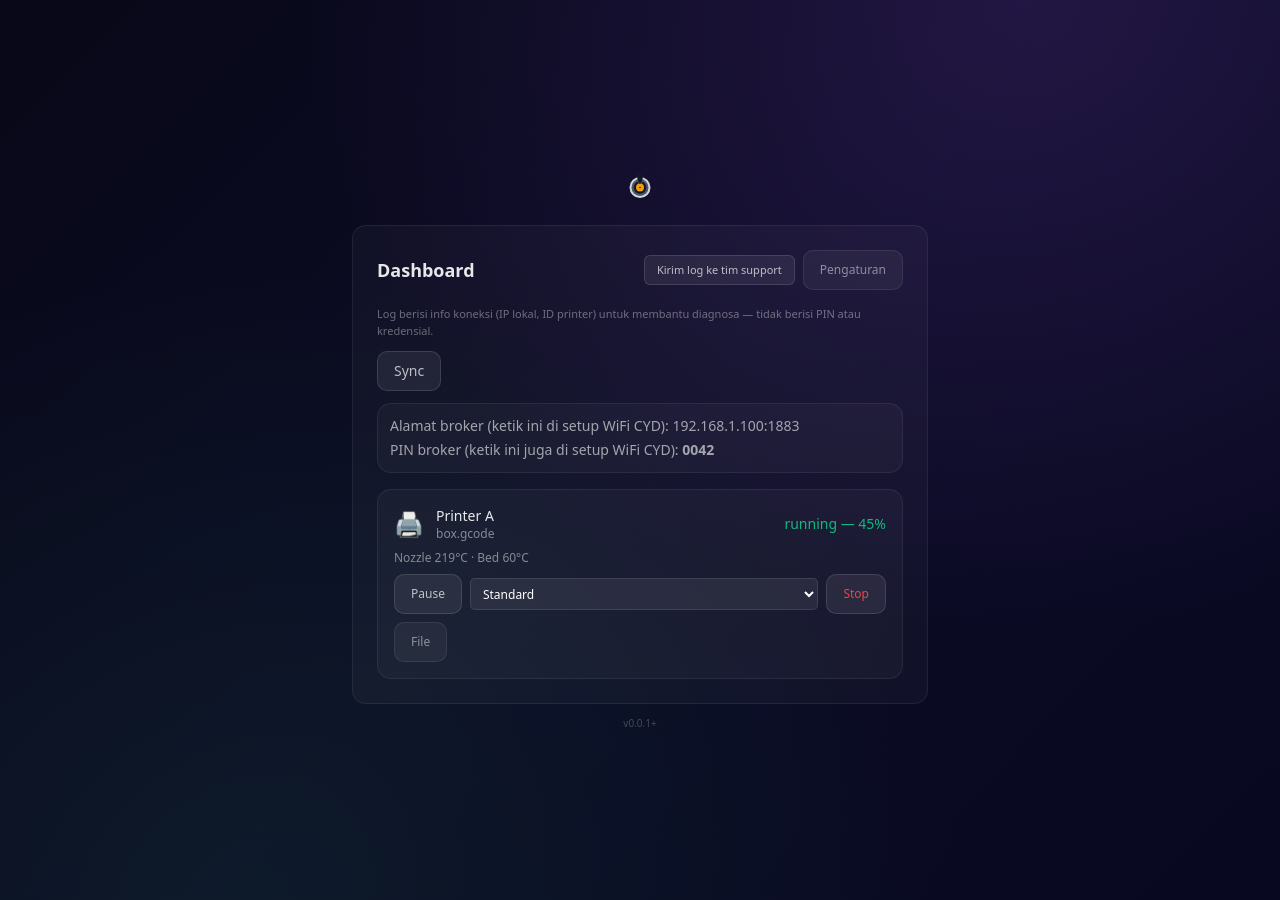
Test: DashboardScreen kirim log › klik 'Kirim log' panggil sendLogs(), tampilkan pesan sukses
This screenshot has width=1280, height=900.
Click the button "Kirim log ke tim support": (719, 270) [644, 255, 795, 285]
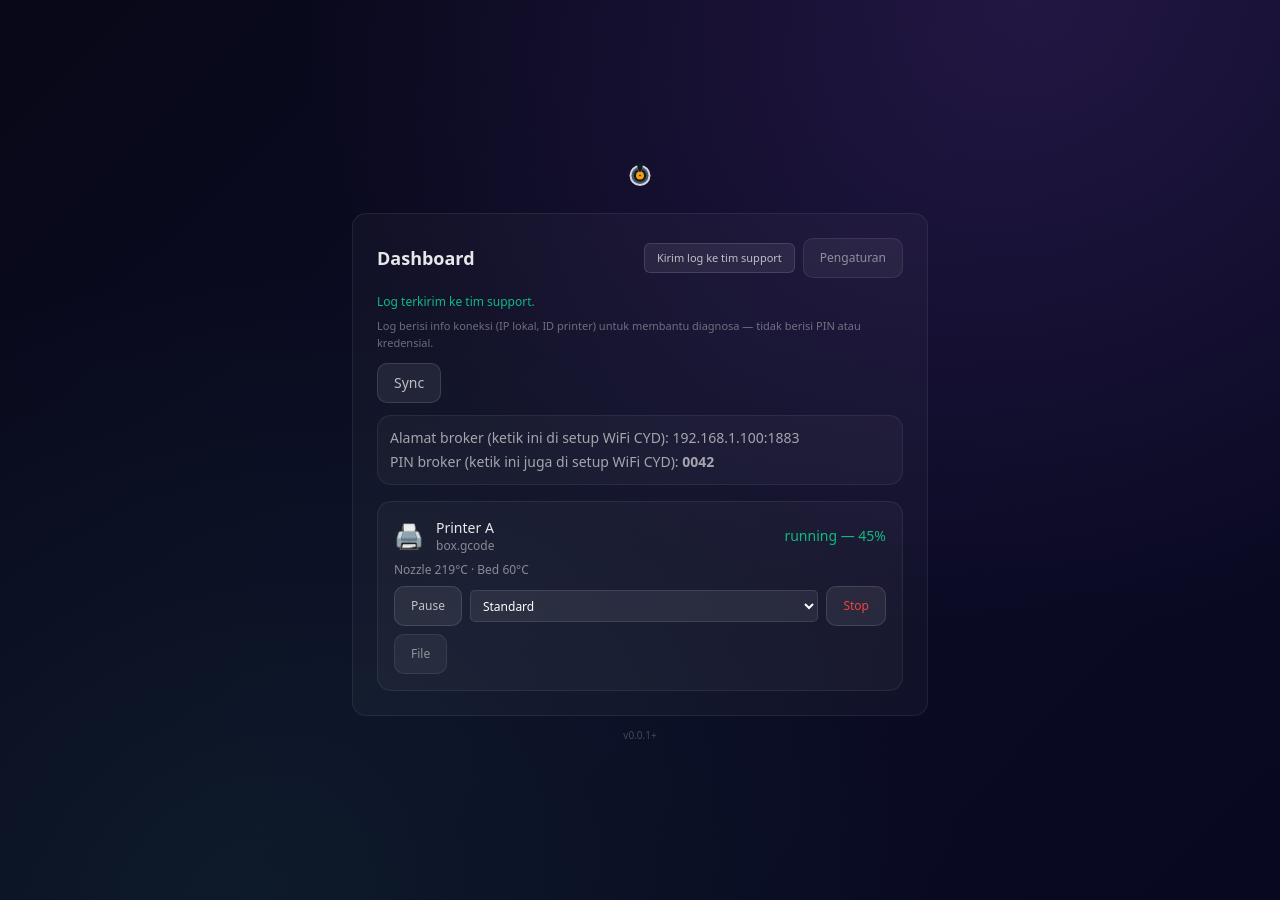
Result: the text "Log terkirim ke tim support." is shown at [377, 293, 535, 310]
